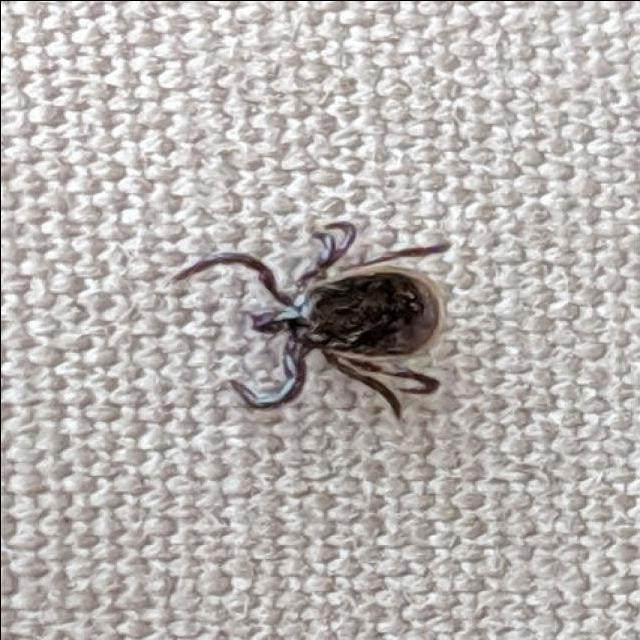Ixodes Ricinus-M: (205, 216, 453, 419)
